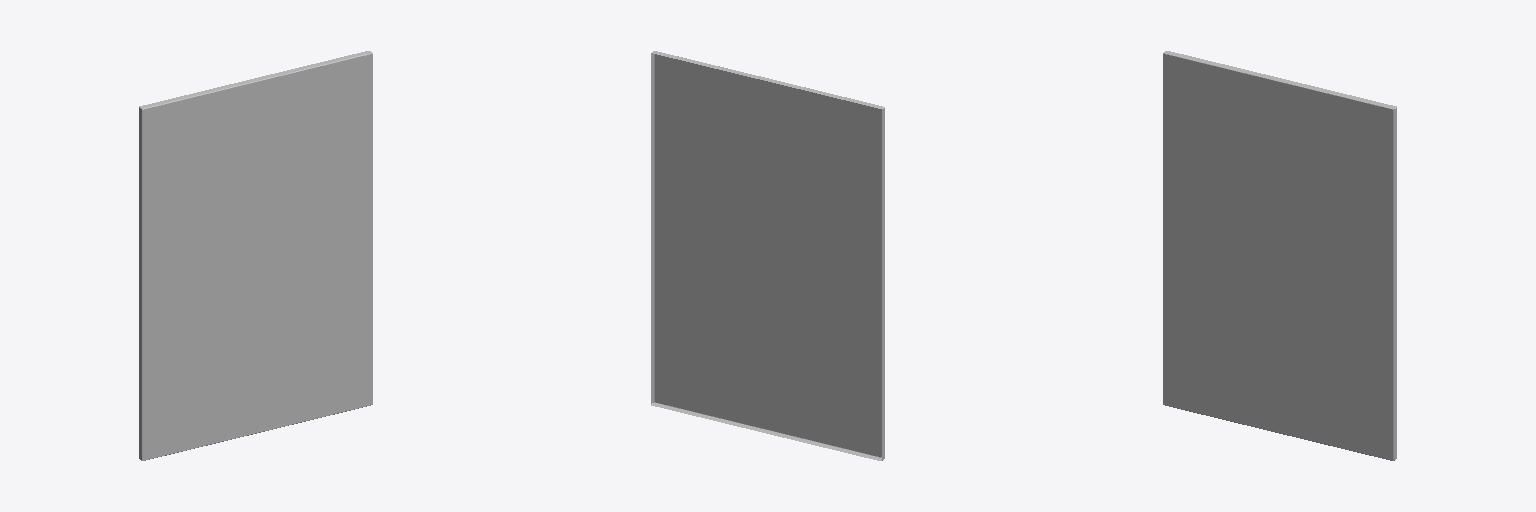
File: Middle_Panel.obj
3 renders of one model, left to right at view 1: azimuth 30°, elevation 25°; view 2: azimuth 150°, elevation 25°; view 3: azimuth 330°, elevation 25°, orthographic.
Visible parts, largest first — view 1: polySurface661 polySurface446; view 2: polySurface661 polySurface446; view 3: polySurface661 polySurface446.
Boxes of the visible parts, x1,y1,x2,y2 form: polySurface661 polySurface446: [139, 51, 372, 460]; polySurface661 polySurface446: [651, 51, 884, 460]; polySurface661 polySurface446: [1163, 51, 1396, 460].
Size of the model in its own units: 27.88 by 40.63 by 0.7567.